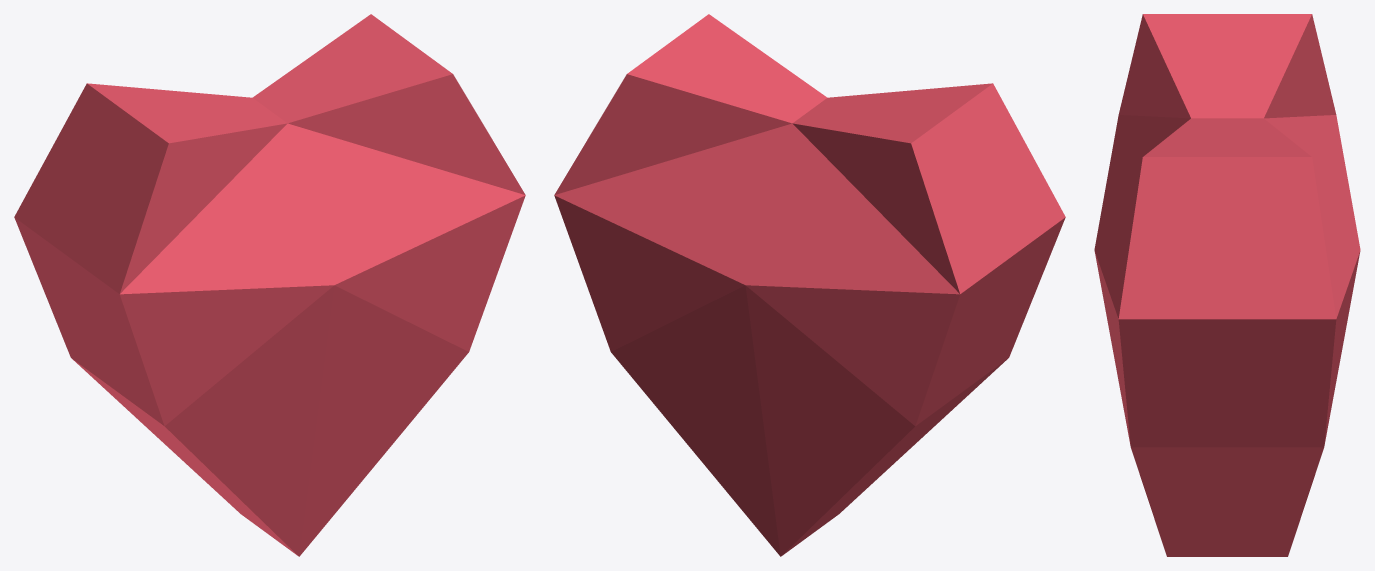
Rendered from heart.glb.
3 views of the same model, side by side, from view 1: azimuth 30°, elevation 25°; view 2: azimuth 150°, elevation 25°; view 3: azimuth 270°, elevation 25° (orthographic). The views are drawn at different scales.
Size of the model in its own units: 2 by 2.15 by 1.1.
